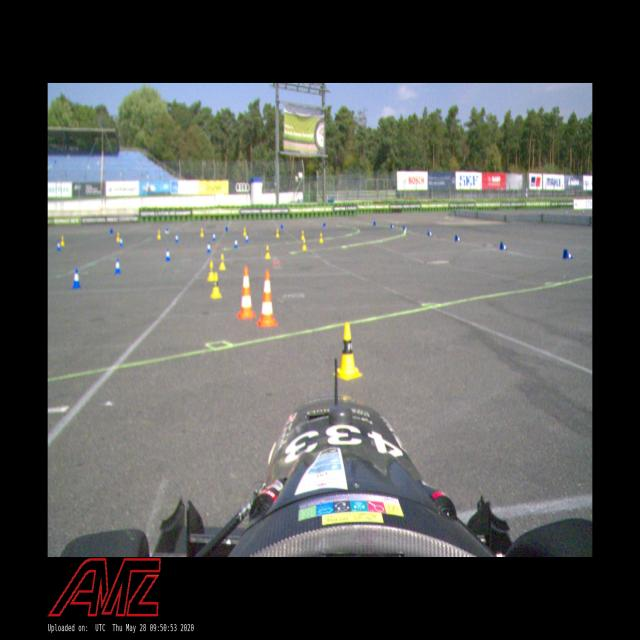blue_cone: (72, 268, 82, 290), (115, 258, 122, 276), (562, 249, 573, 259), (165, 247, 171, 262), (499, 241, 508, 251), (206, 241, 211, 254), (56, 239, 61, 251), (454, 234, 461, 242), (119, 235, 123, 248), (245, 232, 249, 244), (174, 232, 178, 243), (234, 237, 238, 248), (212, 231, 216, 241), (427, 230, 433, 236), (402, 225, 408, 231), (390, 223, 395, 229)
large_orange_cone: (256, 269, 278, 328), (236, 266, 256, 320)
yellow_cone: (333, 322, 363, 382), (210, 272, 222, 299), (207, 262, 216, 282), (219, 254, 226, 270), (264, 244, 270, 259), (318, 232, 324, 244), (302, 238, 307, 251), (60, 236, 64, 246), (116, 232, 120, 242), (157, 230, 161, 240), (242, 226, 246, 236), (276, 228, 280, 238), (300, 230, 304, 240), (200, 228, 204, 237)
